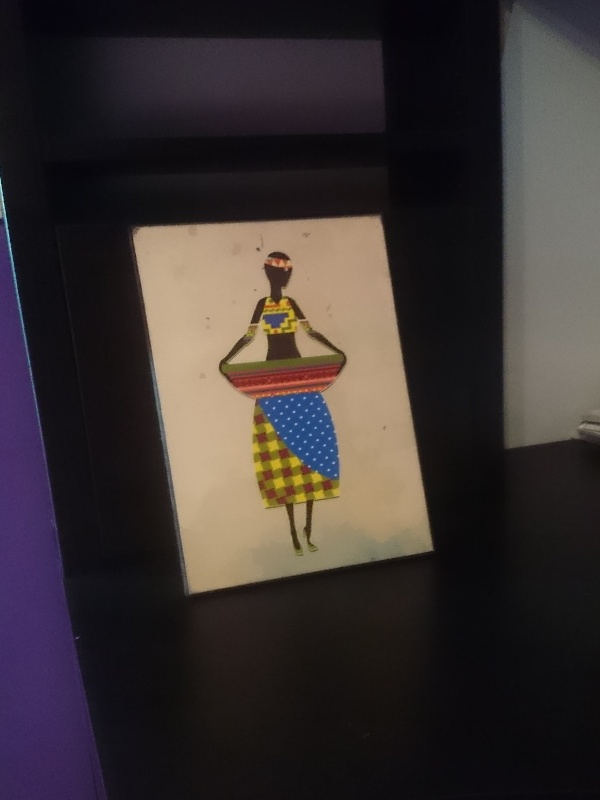my image: (129, 216, 429, 594)
